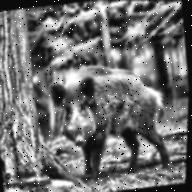boar: (33, 39, 191, 192)
